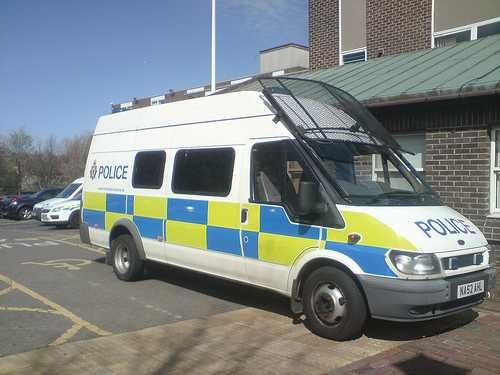Police Van: (53, 69, 500, 340)
